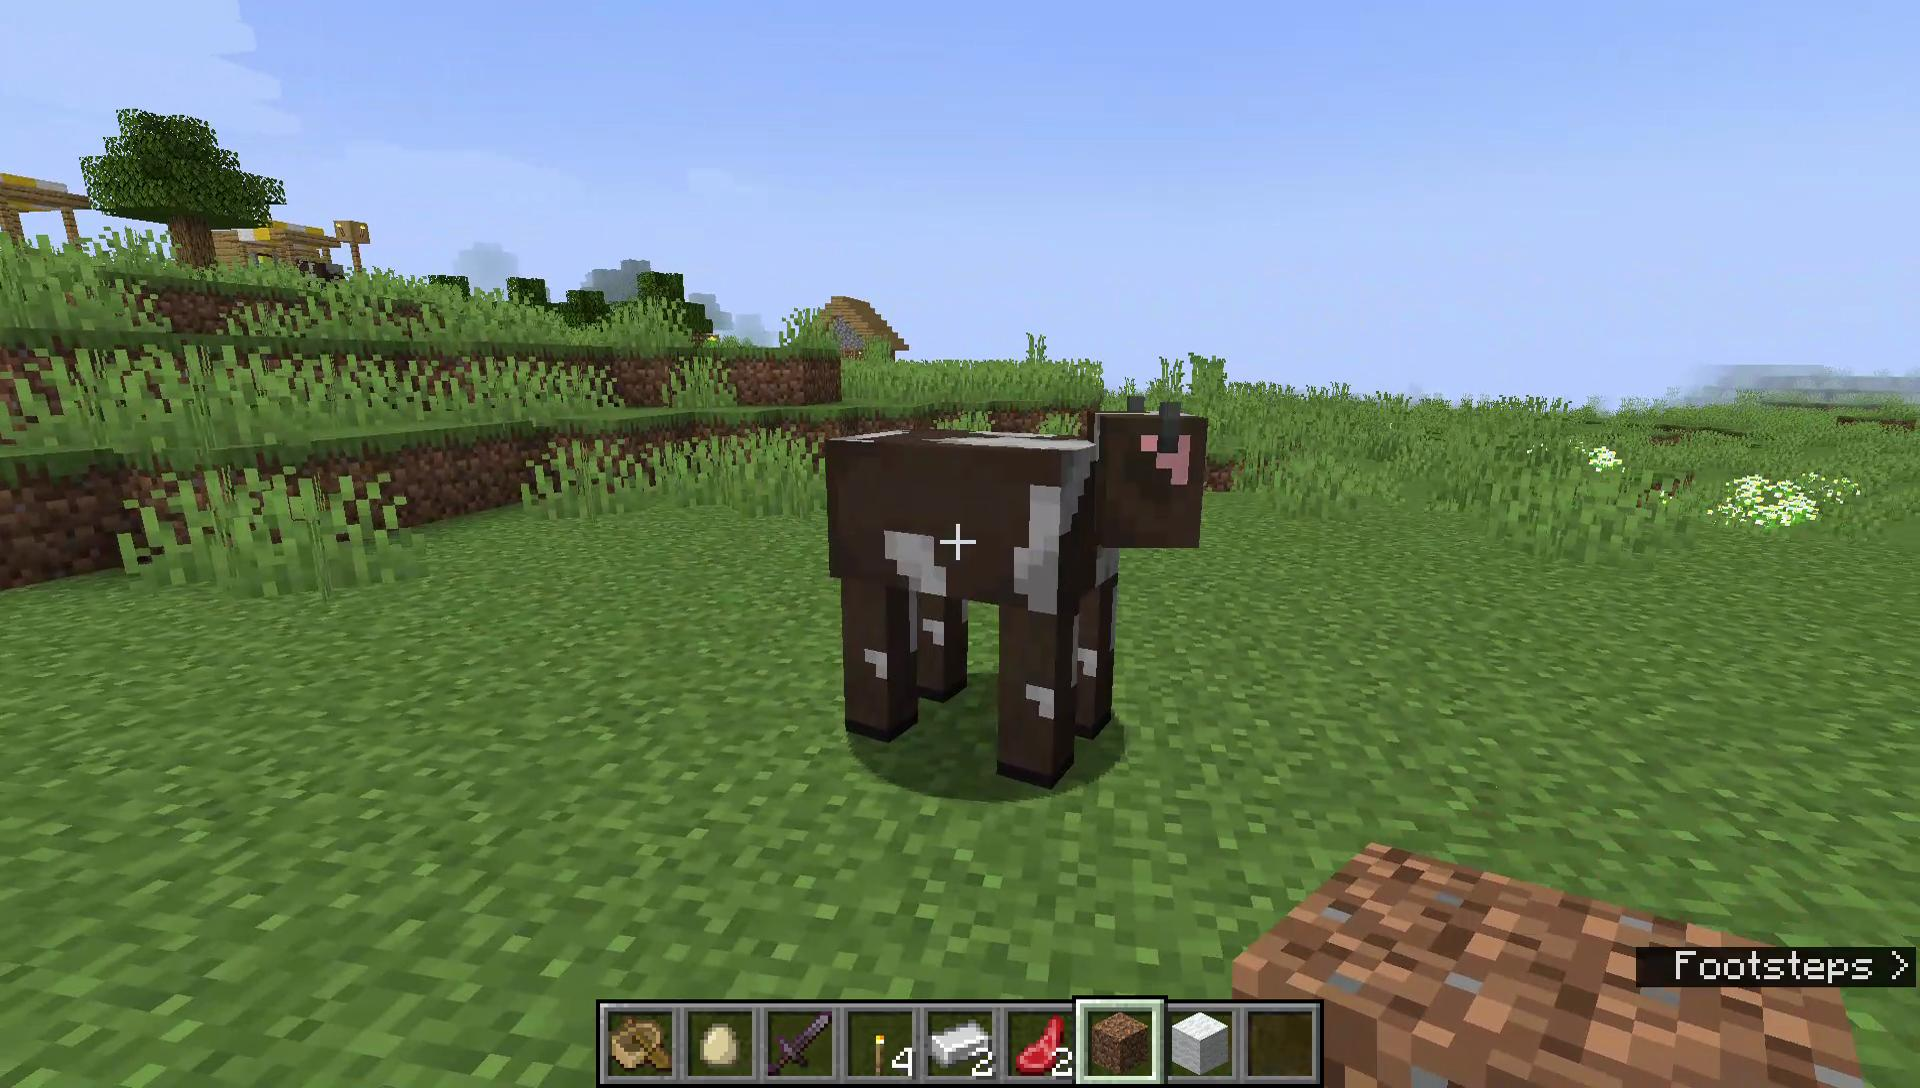cow: (822, 392, 1220, 797), (294, 257, 347, 291)
